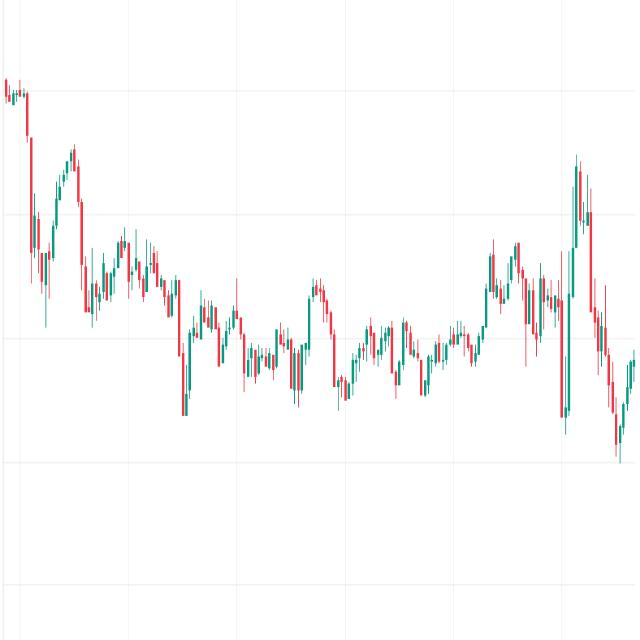Cup-and-handle: (21, 81, 603, 434)
